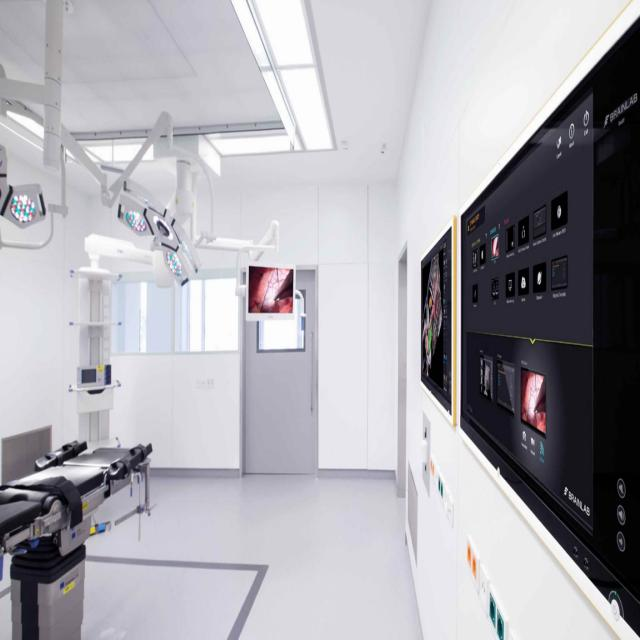cardiac_monitor: (249, 265, 309, 323)
lightings: (127, 198, 204, 312)
patient_bed: (1, 438, 178, 526)
